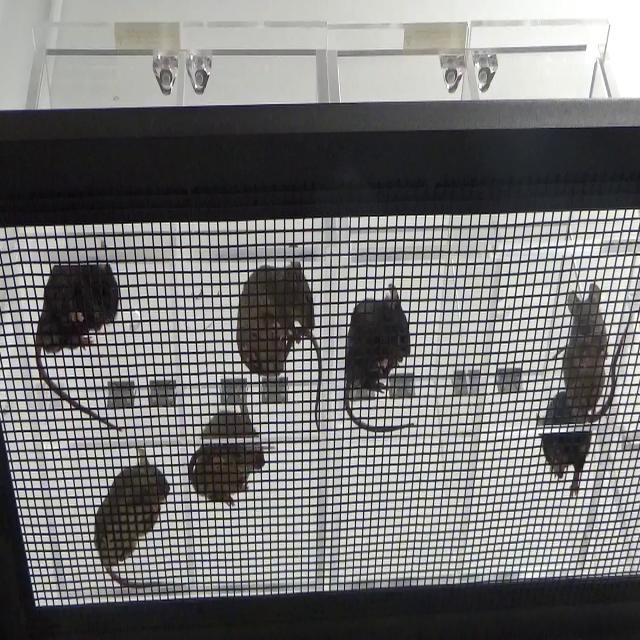lick tail: (231, 247, 332, 404), (548, 282, 608, 406)
